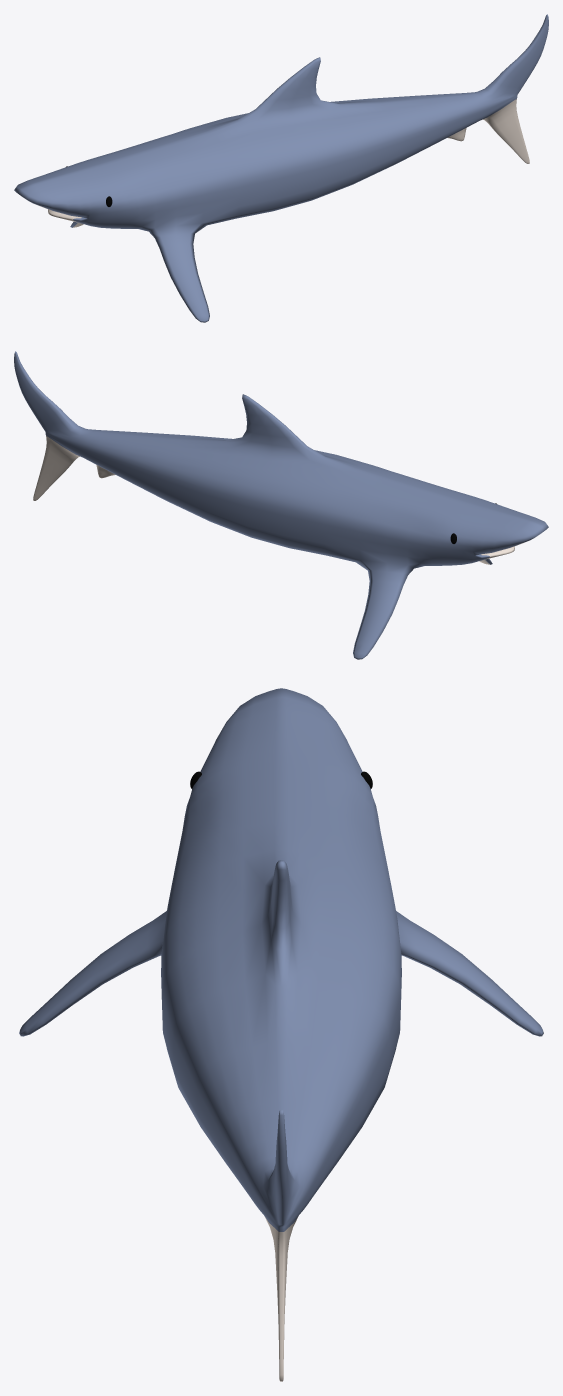
Rendered from Shark.fbx.
3 views of the same model, one above another, from view 1: azimuth 30°, elevation 25°; view 2: azimuth 150°, elevation 25°; view 3: azimuth 270°, elevation 25° (orthographic). The views are drawn at different scales.
Parts seen in each view (by area): view 1: Shark; view 2: Shark; view 3: Shark.
Part boxes in pixels (<box>): Shark: <box>14,14,548,322</box>; Shark: <box>14,351,548,659</box>; Shark: <box>19,688,543,1381</box>.
Bounding box in the file's own units: 373 × 116 × 160.
